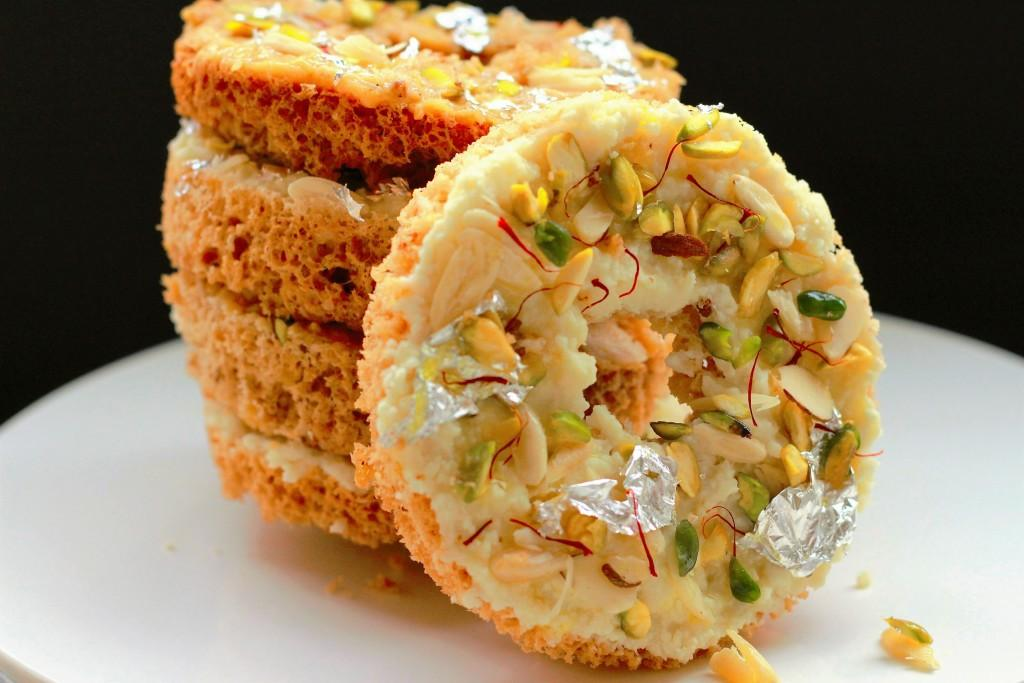Ghevar: (350, 98, 887, 671), (170, 0, 685, 168), (162, 124, 417, 333), (160, 276, 366, 455), (206, 410, 399, 546)
